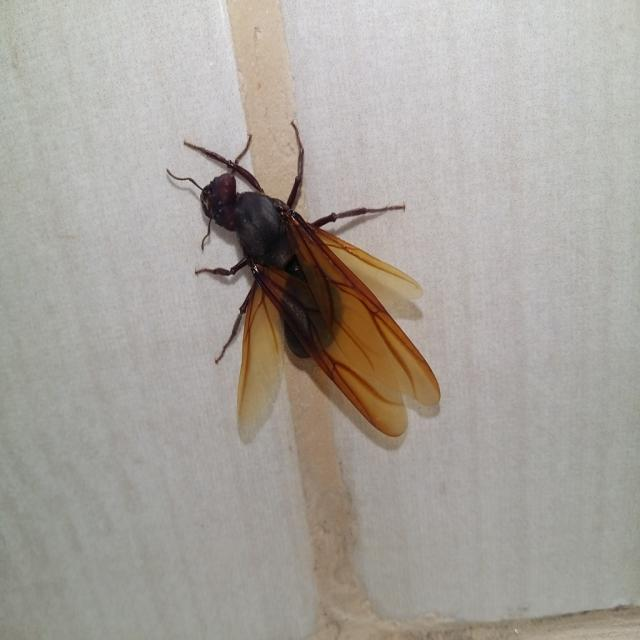Alive-Female-Alate: (166, 119, 441, 440)
